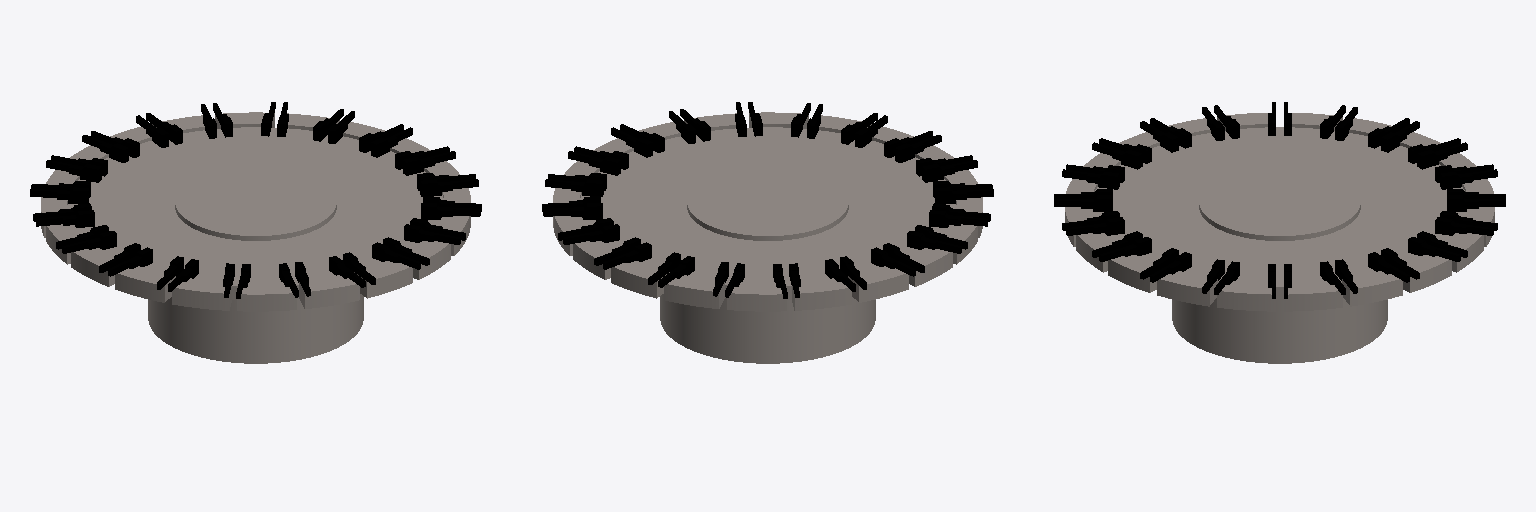
The model's file is Rotating_Table.obj.
3 views of the same model, side by side, from view 1: azimuth 30°, elevation 25°; view 2: azimuth 150°, elevation 25°; view 3: azimuth 270°, elevation 25° (orthographic).
Parts seen in each view (by area): view 1: Rotating_Table_1, Rotating_Table; view 2: Rotating_Table_1, Rotating_Table; view 3: Rotating_Table_1, Rotating_Table.
Boxes of the visible parts, <box> form: Rotating_Table_1: <box>41,112,470,363</box>; Rotating_Table: <box>30,102,481,298</box>; Rotating_Table_1: <box>553,112,982,363</box>; Rotating_Table: <box>542,102,993,298</box>; Rotating_Table_1: <box>1065,113,1494,363</box>; Rotating_Table: <box>1054,102,1505,298</box>.
Size of the model in its own units: 840 by 255 by 840.